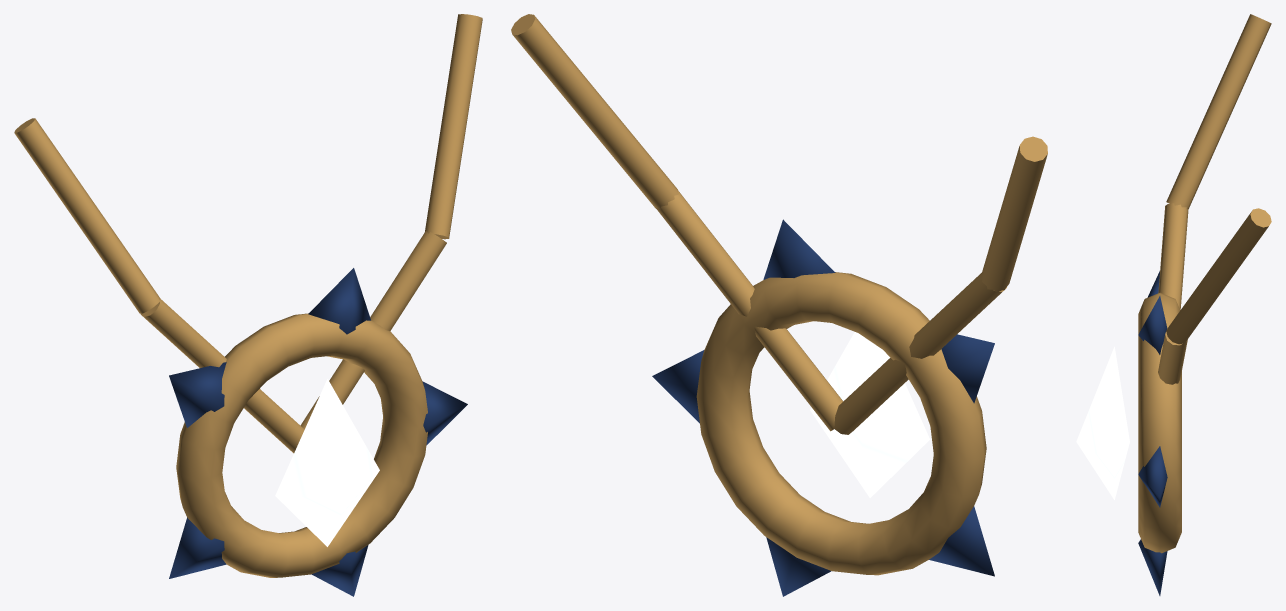
File: boss_thunder_abbot_accessory_4.glb
The picture shows the model from 3 angles, left to right: view 1: azimuth 30°, elevation 25°; view 2: azimuth 150°, elevation 25°; view 3: azimuth 270°, elevation 25°; orthographic projection. The views are drawn at different scales.
Visible parts, largest first — view 1: Boss_thunder_abbot_1, Boss_thunder_abbot_0, Boss_thunder_abbot_2; view 2: Boss_thunder_abbot_1, Boss_thunder_abbot_0, Boss_thunder_abbot_2; view 3: Boss_thunder_abbot_1, Boss_thunder_abbot_2, Boss_thunder_abbot_0.
Part boxes in pixels (x1,y1,x2,y2): Boss_thunder_abbot_1: (14, 14, 482, 577); Boss_thunder_abbot_0: (169, 268, 467, 596); Boss_thunder_abbot_2: (275, 379, 379, 546); Boss_thunder_abbot_1: (511, 14, 1047, 575); Boss_thunder_abbot_0: (652, 219, 994, 596); Boss_thunder_abbot_2: (810, 332, 929, 497); Boss_thunder_abbot_1: (1138, 14, 1271, 553); Boss_thunder_abbot_2: (1076, 346, 1129, 499); Boss_thunder_abbot_0: (1138, 271, 1167, 595).
Size of the model in its own units: 0.2925 by 0.3029 by 0.1162.
